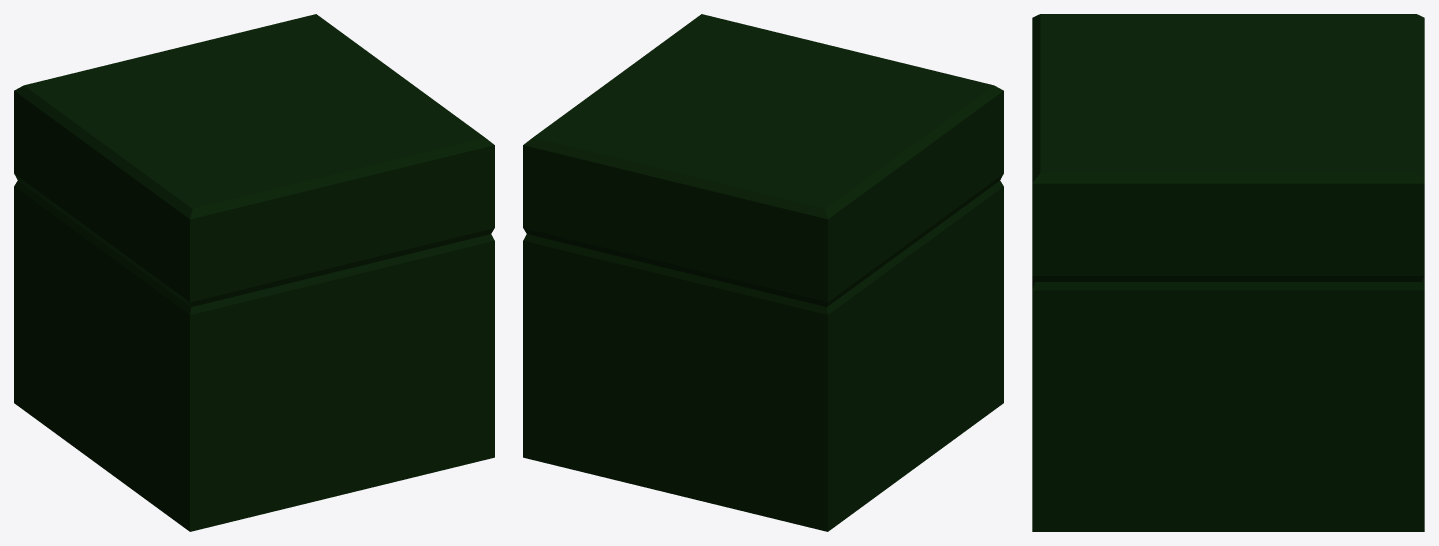
The model's file is GrassBlock01D.obj.
The picture shows the model from 3 angles, left to right: view 1: azimuth 30°, elevation 25°; view 2: azimuth 150°, elevation 25°; view 3: azimuth 270°, elevation 25°; orthographic projection. The views are drawn at different scales.
Visible parts, largest first — view 1: Floor01_Cube.009; view 2: Floor01_Cube.009; view 3: Floor01_Cube.009.
Boxes of the visible parts, x1=… form: Floor01_Cube.009: x1=14, y1=14, x2=494, y2=531; Floor01_Cube.009: x1=523, y1=14, x2=1003, y2=531; Floor01_Cube.009: x1=1032, y1=14, x2=1424, y2=531.
Size of the model in its own units: 2 by 2 by 2.
